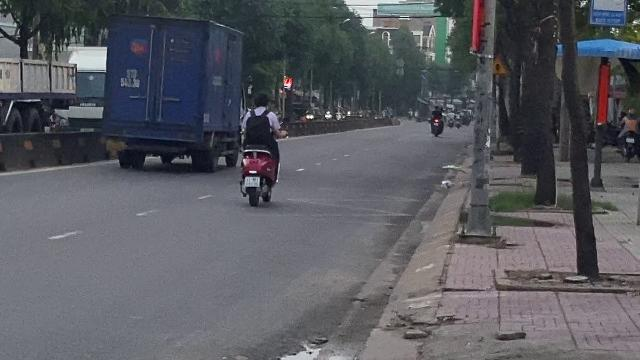licenseplate: (244, 176, 260, 186)
motorcyclist: (235, 88, 282, 206)
nohelmet: (251, 92, 269, 109)
